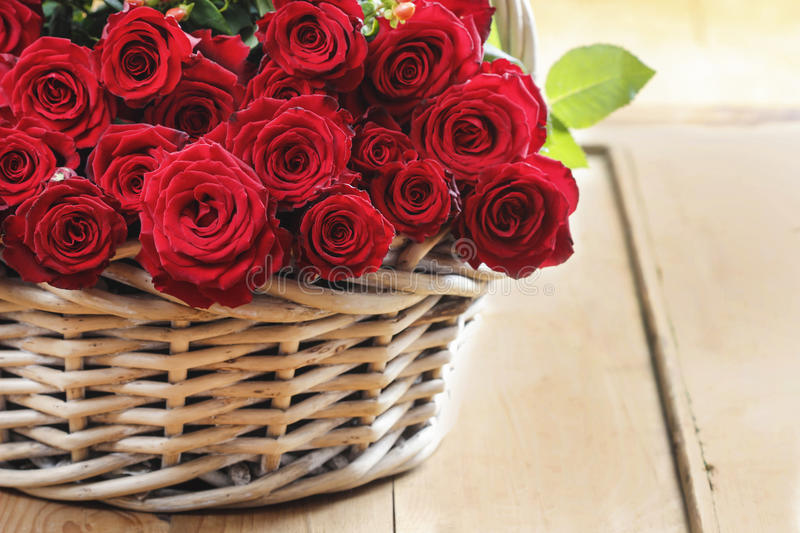RedRose: (132, 143, 288, 304), (459, 156, 589, 285), (353, 1, 500, 115), (419, 59, 551, 180), (0, 172, 122, 285), (138, 35, 254, 145), (230, 100, 355, 195), (0, 30, 106, 137), (251, 1, 374, 88), (94, 9, 200, 108), (288, 186, 401, 278), (90, 124, 188, 201), (379, 156, 461, 245), (0, 124, 67, 211), (351, 110, 424, 186), (238, 62, 327, 120), (0, 0, 42, 57), (427, 381, 428, 382)
